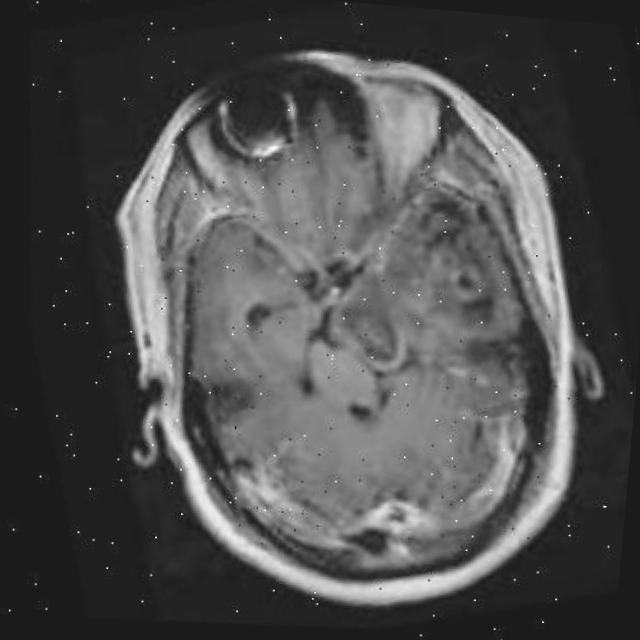EMCI: (345, 180, 554, 422)
